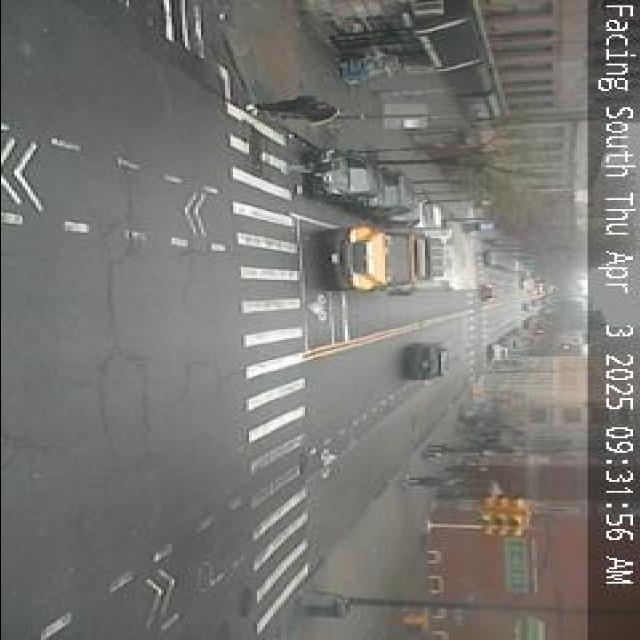parkedCars: (311, 147, 455, 229)
